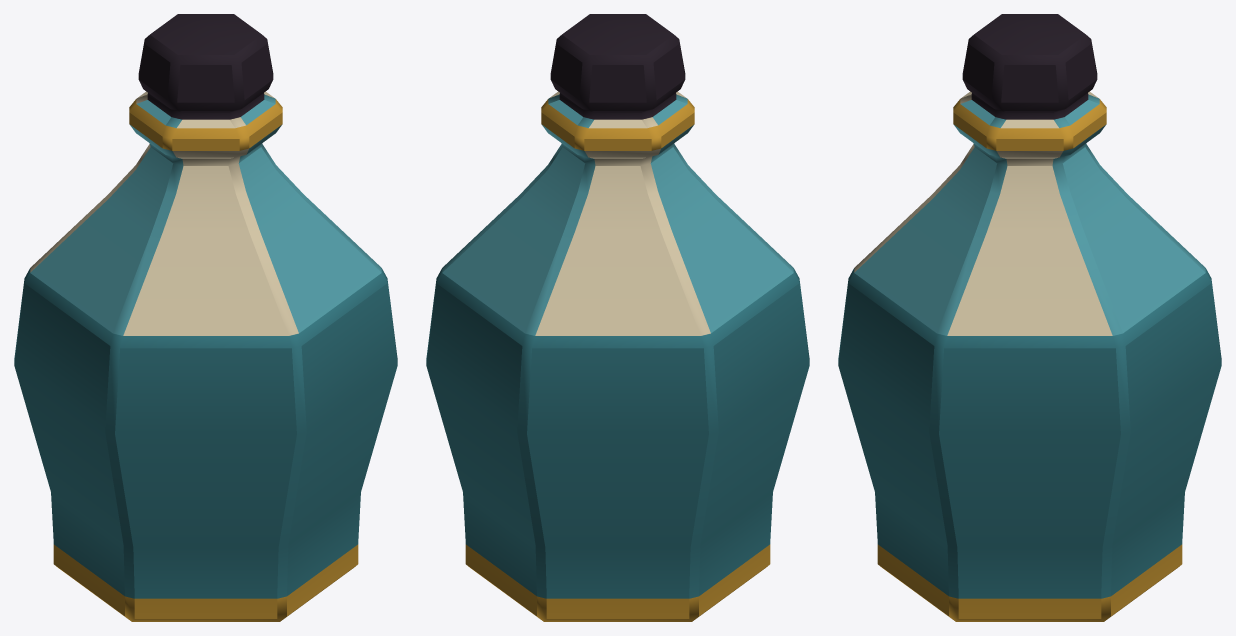
File: Bottle_20.glb
The picture shows the model from 3 angles, left to right: view 1: azimuth 30°, elevation 25°; view 2: azimuth 150°, elevation 25°; view 3: azimuth 270°, elevation 25°; orthographic projection.
Visible parts, largest first — view 1: Bottle_20; view 2: Bottle_20; view 3: Bottle_20.
Boxes of the visible parts, <box> form: Bottle_20: <box>14,14,397,621</box>; Bottle_20: <box>426,14,809,621</box>; Bottle_20: <box>838,14,1221,621</box>.
Size of the model in its own units: 1.3 by 2.3 by 1.48.
